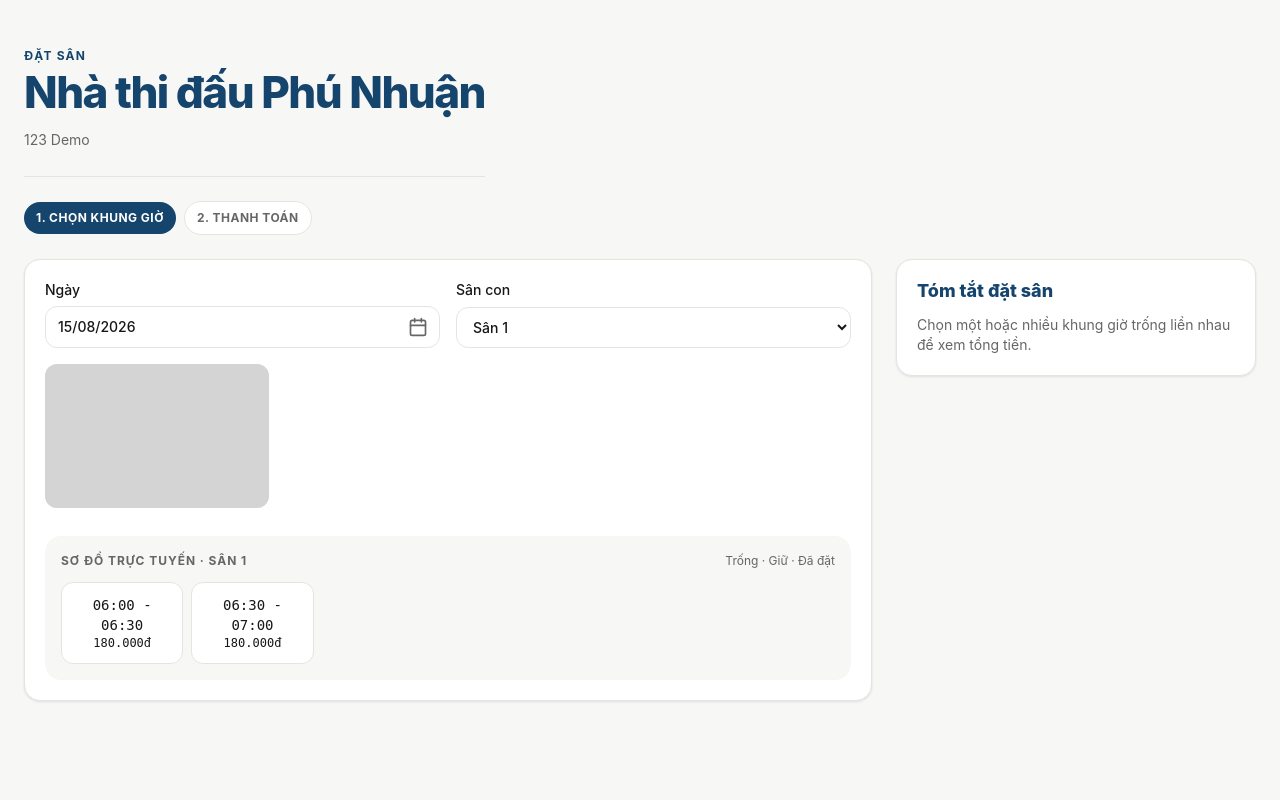
Test: uses one confirmation action to create a hold and booking, then locks selection controls
Click the button named "Chọn 06:00 - 06:30". click: click(122, 623)
box: [61,582,183,664]
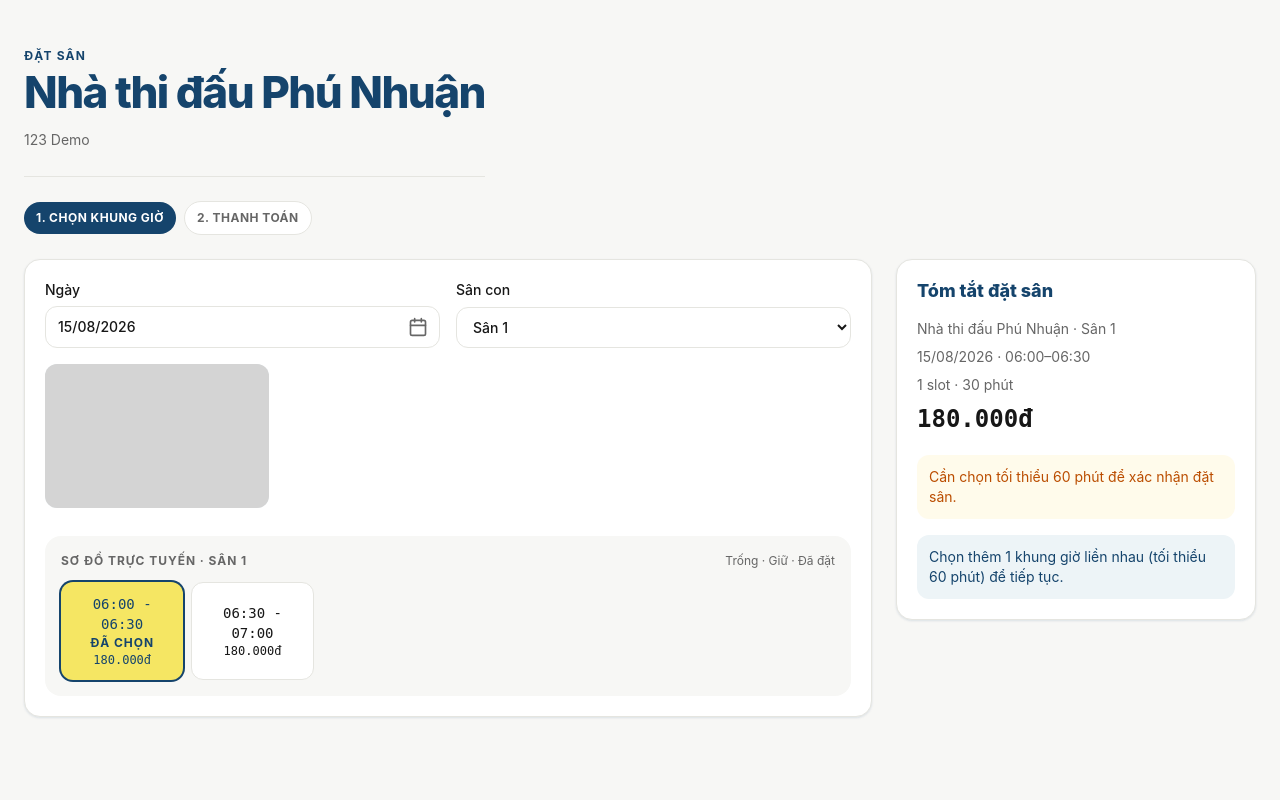
Result: the text "Cần chọn tối thiểu 60 phút để xác nhận đặt sân." is shown at [917,455,1235,519]
Click the button named "Chọn 06:30 - 07:00". click: click(252, 631)
box: [191,582,314,680]
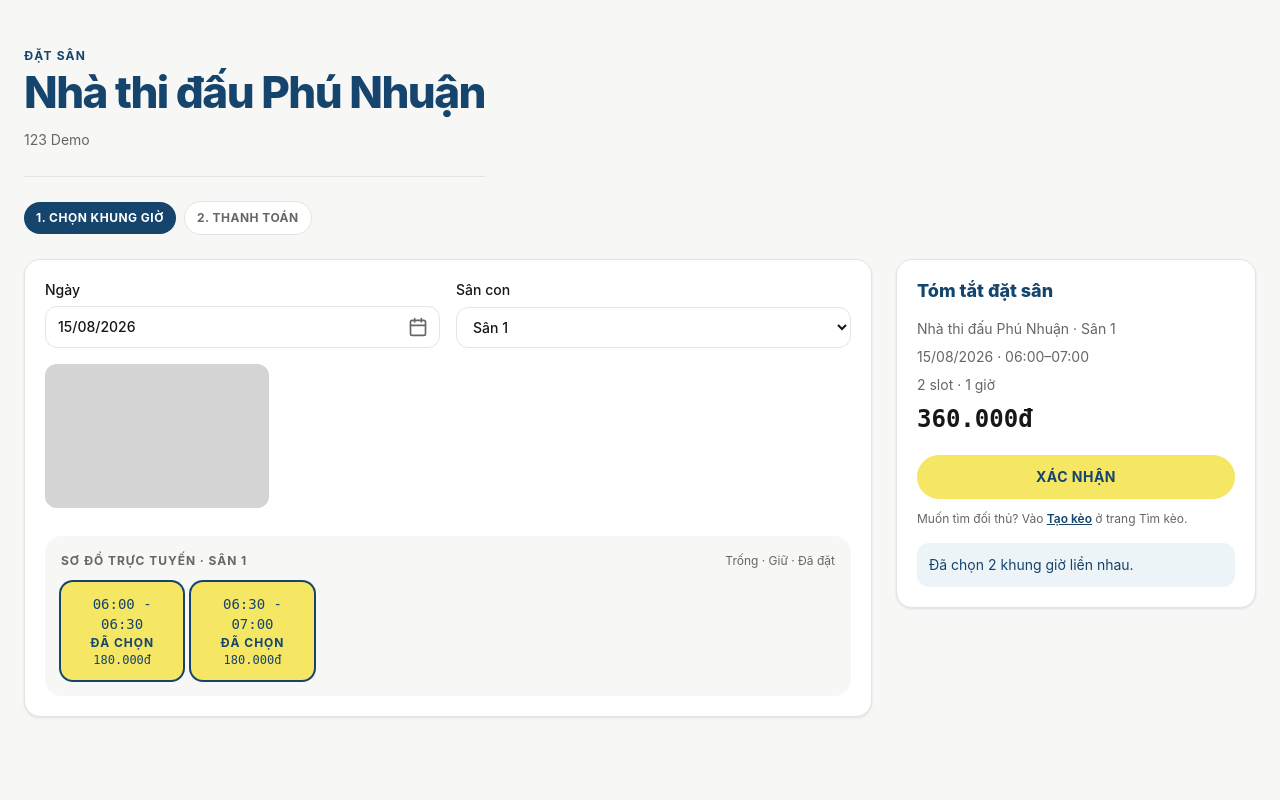
Result: the button "XÁC NHẬN" is shown
Click the button "XÁC NHẬN". click: click(1076, 477)
box: [917,455,1235,499]
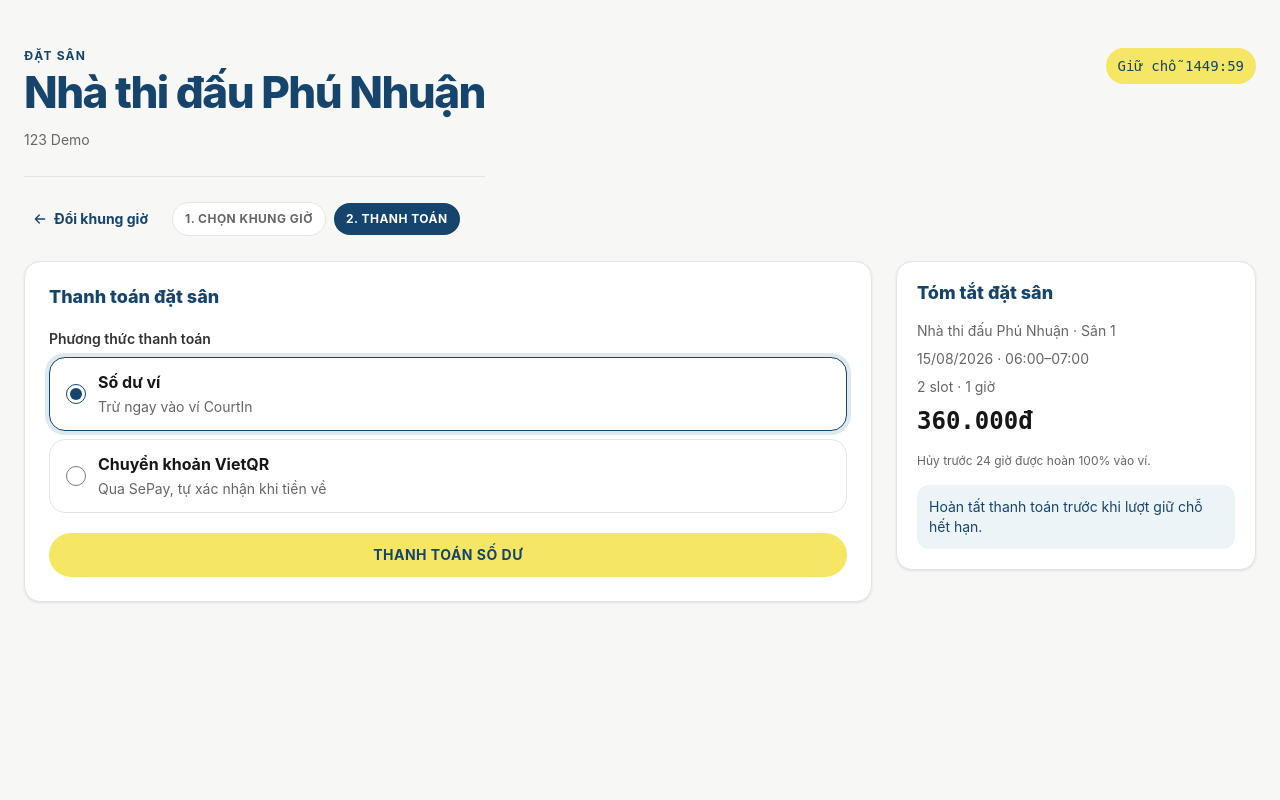
Result: the heading "Thanh toán đặt sân" is shown at [49,286,219,307]
